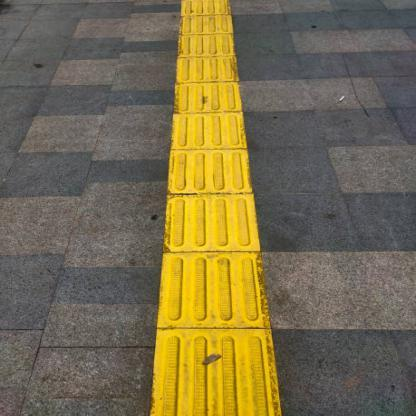podotacti: (153, 0, 279, 416)
